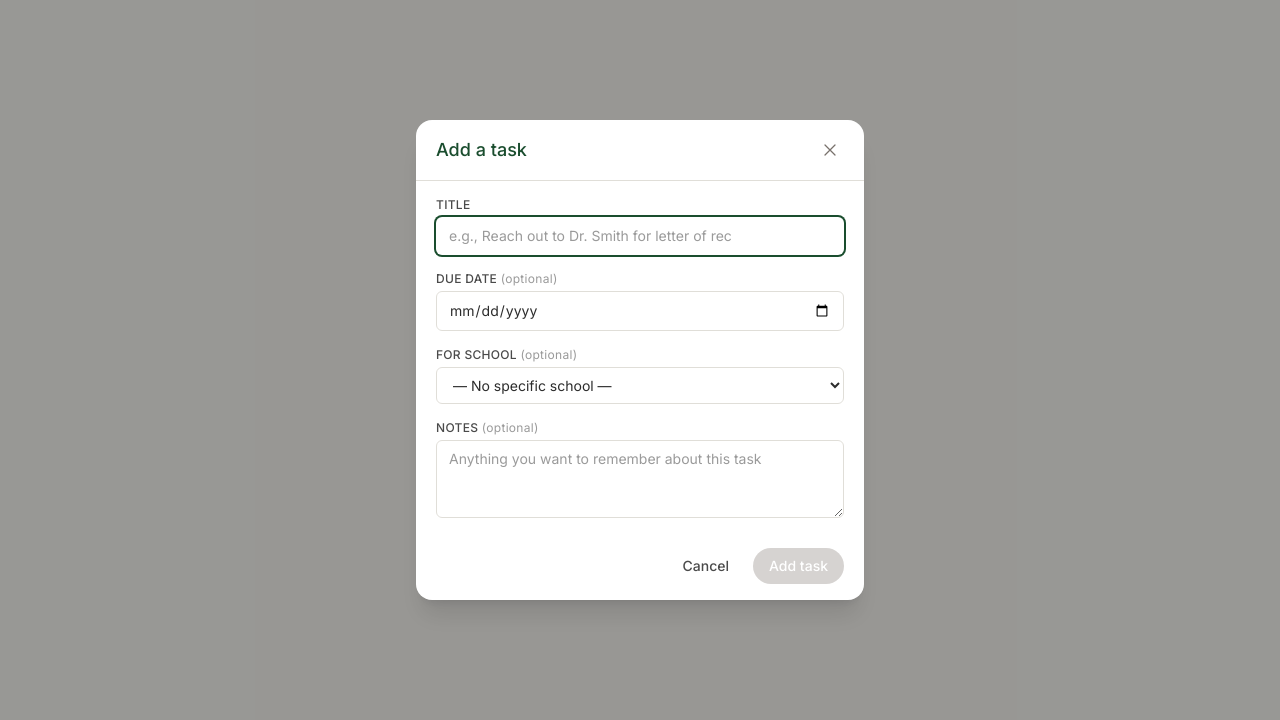
Test: AddTaskModal › form gating › enables submit once title has non-whitespace content
This screenshot has width=1280, height=720.
Type "My new task" into the field labelled "Title".
click(640, 236); type("My new task")  # box [436,217,844,255]
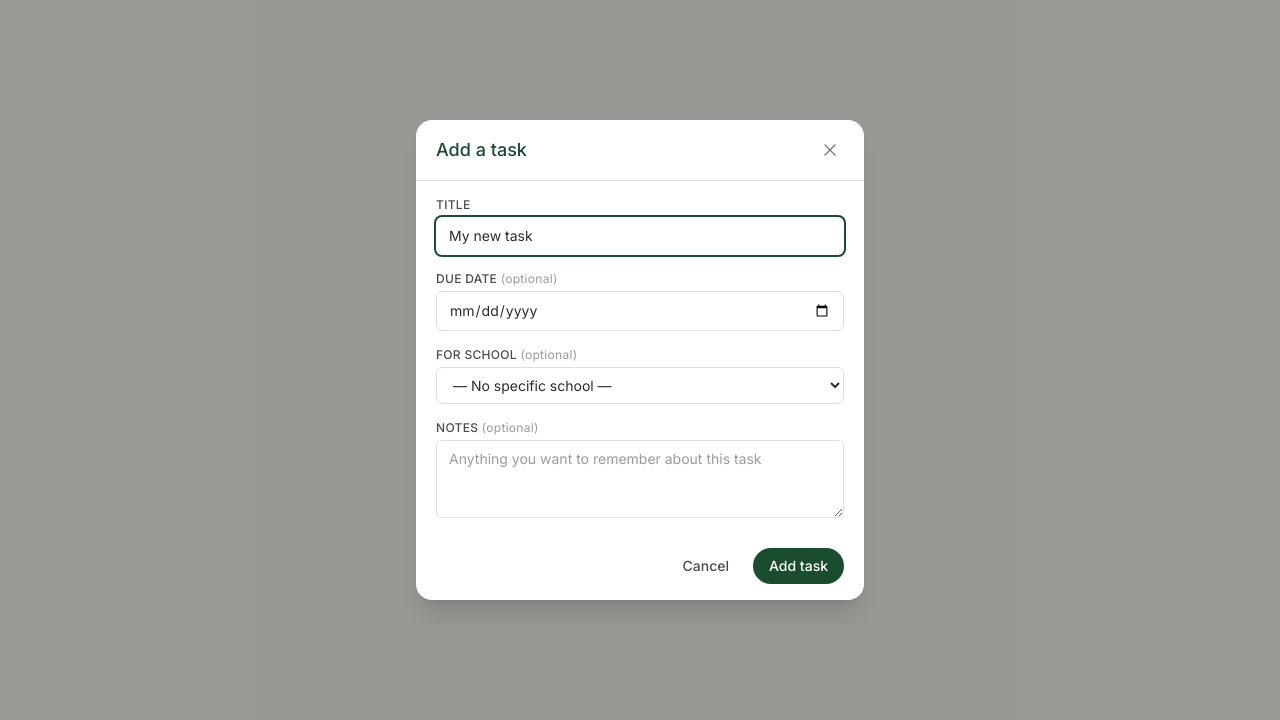
Now the button "Add task" is enabled, box [753,548,844,584]
